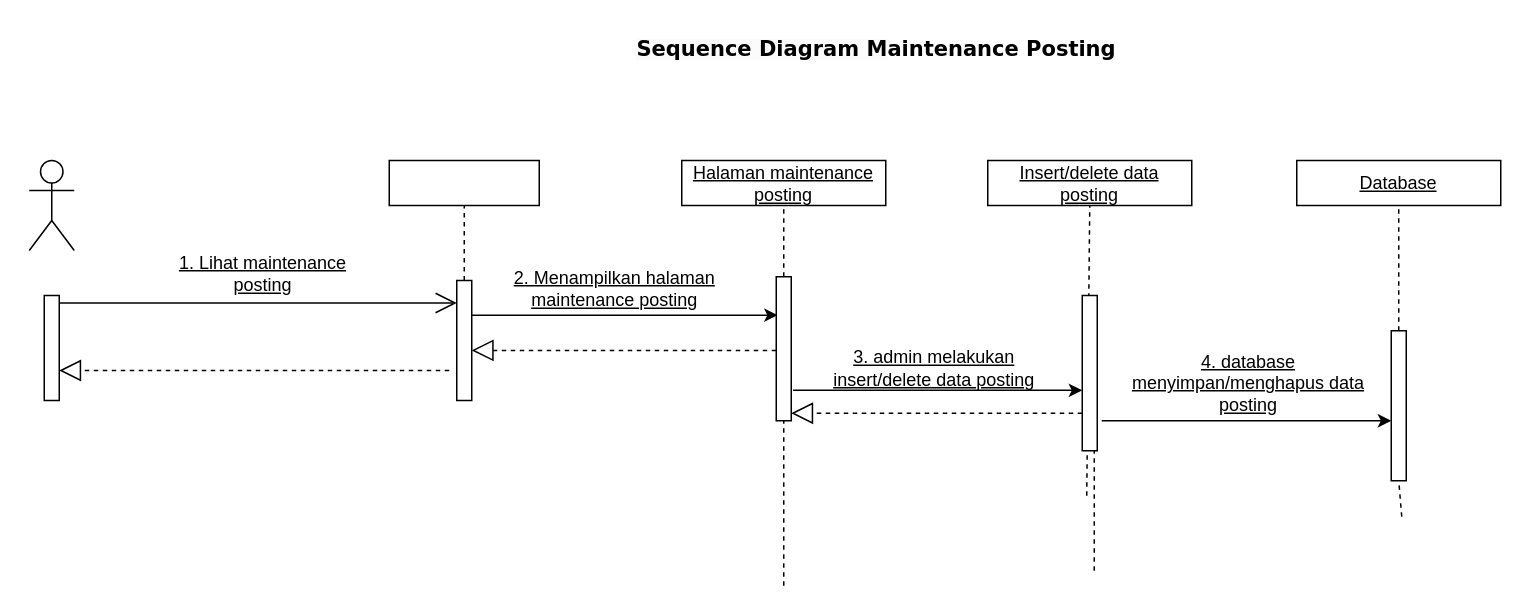
This 1527x614 diagram has some shape labels left out. The shapes that lost their labels are listed below. From the top down, each one's centre as x and y in pixels, then its label:
(x=463, y=182): maintenance posting
(x=51, y=204): Admin
